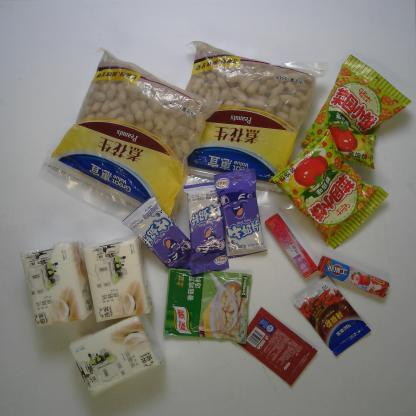Candy: (211, 166, 267, 260), (125, 192, 188, 269), (182, 180, 230, 278), (316, 251, 392, 302), (263, 212, 319, 280)
Dried Food: (37, 47, 214, 219), (184, 38, 326, 212)
Puffed Food: (267, 128, 391, 251), (299, 52, 414, 171)
Seasoner: (164, 263, 252, 346), (235, 305, 318, 389), (291, 278, 374, 359)
Tissue: (68, 314, 168, 398), (20, 239, 96, 329), (84, 236, 150, 323)
